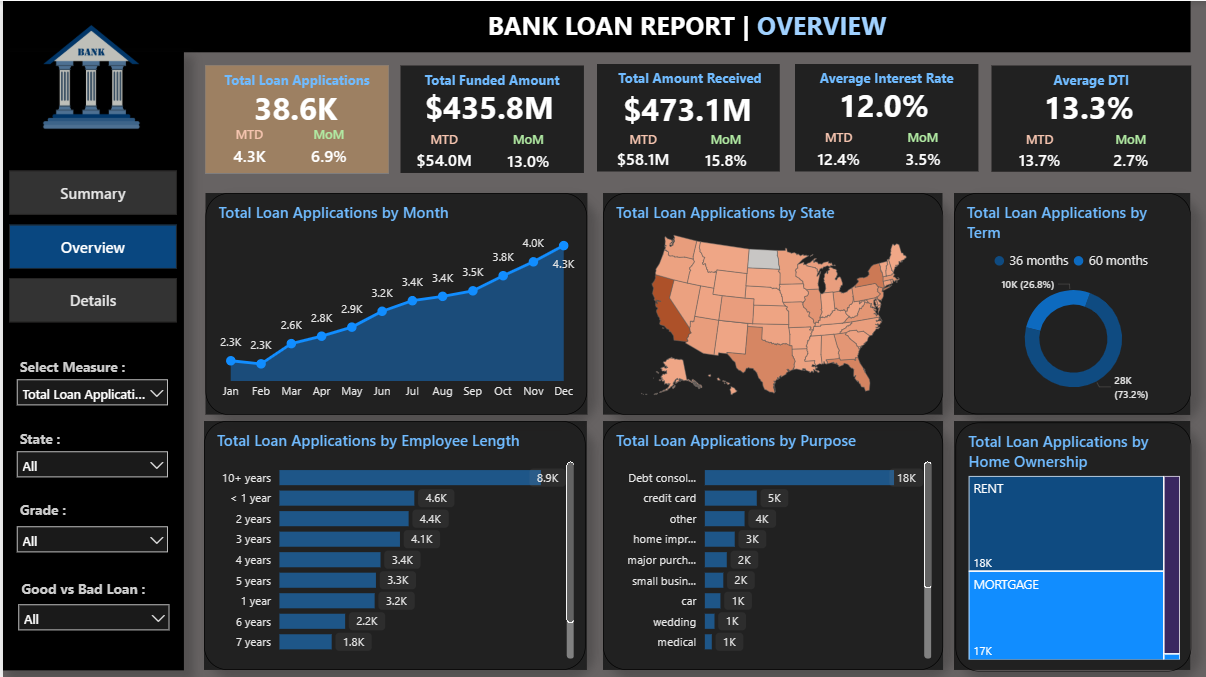

The page's visual inventory and layout, read from the dashboard file:
{"tool":"powerbi","page":{"name":"Overview","canvas":[1280,720],"ordinal":1},"visuals":[{"type":"shape","box":[629.2,66.4,193.8,114.2],"z":0,"group":"g3"},{"type":"shape","box":[839.7,67.5,194.5,114],"z":0,"group":"g4"},{"type":"shape","box":[214.3,68.6,194.3,114.3],"z":0,"group":"g1"},{"type":"shape","box":[421.4,68.6,194.5,114],"z":0,"group":"g2"},{"type":"shape","box":[1047.5,69,211.7,112.9],"z":0,"group":"g5"},{"type":"shape","box":[214.3,204.3,405,235],"z":0},{"type":"shape","box":[0,0,1259.3,54.7],"z":1000},{"type":"card","fields":{"Values":["table_measures.avg_interest_rate"]},"box":[851.5,82.1,165.9,58.4],"z":1000,"group":"g4"},{"type":"card","fields":{"Values":["table_measures.total_loan_appl"]},"box":[247.2,83.2,124.3,61.3],"z":1000,"group":"g1"},{"type":"card","fields":{"Values":["table_measures.total_funded_amt"]},"box":[433.2,83.2,165.9,58.4],"z":1000,"group":"g2"},{"type":"card","fields":{"Values":["table_measures.avg_DTI"]},"box":[1060.3,83.4,180.6,57.8],"z":1000,"group":"g5"},{"type":"card","fields":{"Values":["table_measures.total_received_amt"]},"box":[643.2,85.3,163.1,55.8],"z":1000,"group":"g3"},{"type":"shape","box":[0,54.7,191.9,655.8],"z":2000},{"type":"textbox","box":[632.2,67,191,41.6],"z":2000,"group":"g3"},{"type":"textbox","box":[839.7,67.5,194.5,38.9],"z":2000,"group":"g4"},{"type":"textbox","box":[214.3,68.6,194.3,39],"z":2000,"group":"g1"},{"type":"textbox","box":[421.4,68.6,194.5,38.9],"z":2000,"group":"g2"},{"type":"textbox","box":[1047.5,69,211.7,38.5],"z":2000,"group":"g5"},{"type":"card","title":"MTD","fields":{"Values":["table_measures.MTD_loan_appl"]},"box":[235.7,132.7,51.4,50.2],"z":3000,"group":"g1"},{"type":"card","title":"MTD","fields":{"Values":["table_measures.MTD_interest_rate"]},"box":[851.5,136.3,70.1,48.6],"z":3000,"group":"g4"},{"type":"card","title":"MTD","fields":{"Values":["table_measures.MTD_received_amt"]},"box":[643.2,137.1,68.9,46.5],"z":3000,"group":"g3"},{"type":"card","title":"MTD","fields":{"Values":["table_measures.MTD_avg_DTI"]},"box":[1060.3,137.1,76.3,48.2],"z":3000,"group":"g5"},{"type":"card","title":"MTD","fields":{"Values":["table_measures.MTD_funded_amt"]},"box":[433.2,137.4,70.1,48.6],"z":3000,"group":"g2"},{"type":"textbox","box":[12.4,448.7,119.7,38.5],"z":3000},{"type":"textbox","box":[509.2,1.4,447.3,49.5],"z":4000},{"type":"card","title":"MoM","fields":{"Values":["table_measures.MOM_loan_appl"]},"box":[320,132.7,51.4,50.2],"z":4000,"group":"g1"},{"type":"card","title":"MoM","fields":{"Values":["table_measures.MOM_interest_rate"]},"box":[946.6,136.1,57.8,49.7],"z":4000,"group":"g4"},{"type":"card","title":"MoM","fields":{"Values":["table_measures.MOM_received_amt"]},"box":[736.7,136.9,56.8,47.5],"z":4000,"group":"g3"},{"type":"card","title":"MoM","fields":{"Values":["table_measures.MOM_avg_DTI"]},"box":[1163.9,136.9,62.9,49.2],"z":4000,"group":"g5"},{"type":"card","title":"MoM","fields":{"Values":["table_measures.MOM_funded_amt"]},"box":[528.3,137.2,57.8,49.7],"z":4000,"group":"g2"},{"type":"group","id":"g1","title":"Group 1","box":[214.3,68.6,194.3,114.3],"z":5000},{"type":"group","id":"g2","title":"Group 1","box":[421.4,68.6,194.3,118],"z":6000},{"type":"group","id":"g3","title":"Group 1","box":[629.2,66.4,194,118],"z":7000},{"type":"group","id":"g4","title":"Group 1","box":[839.7,67.5,194.5,118.2],"z":8000},{"type":"group","id":"g5","title":"Group 1","box":[1047.5,69,211.5,116.9],"z":9000},{"type":"shape","box":[635.9,203.7,360,235],"z":10000},{"type":"slicer","fields":{"Values":["financial_loan.address_state"]},"box":[5.5,468,180.3,50.9],"z":11000},{"type":"slicer","fields":{"Values":["financial_loan.grade"]},"box":[5.5,546.4,180.3,50.9],"z":12000},{"type":"textbox","box":[12.4,523,119.7,38.5],"z":13000},{"type":"slicer","fields":{"Values":["financial_loan.Good vs Band Loan"]},"box":[6.9,630.4,180.3,50.9],"z":14000},{"type":"textbox","box":[13.8,607,163.8,38.5],"z":15000},{"type":"areaChart","fields":{"Y":["table_measures.total_loan_appl"],"Category":["Date Table.Month"]},"box":[214.7,203.7,404.6,235.4],"z":16000},{"type":"slicer","fields":{"Values":["Select Measure.Select Measure"]},"box":[5.5,390.9,180.3,55.1],"z":17000},{"type":"shape","box":[213.3,445.9,406,264.3],"z":18000},{"type":"shapeMap","fields":{"Value":["table_measures.total_loan_appl"],"Category":["financial_loan.address_state"]},"box":[635.9,203.7,360.6,235.4],"z":19000},{"type":"shape","box":[1008.9,203.7,250.5,235.4],"z":20000},{"type":"donutChart","fields":{"Y":["table_measures.total_loan_appl"],"Category":["financial_loan.term"]},"box":[1008.1,203.5,251.2,234.9],"z":21000},{"type":"barChart","fields":{"Y":["table_measures.total_loan_appl"],"Category":["financial_loan.emp_length"]},"box":[213.3,445.9,404.6,264.3],"z":22000},{"type":"textbox","box":[12.4,371.6,139,38.5],"z":23000},{"type":"shape","box":[635.9,445.9,360.6,264.3],"z":24000},{"type":"barChart","fields":{"Y":["table_measures.total_loan_appl"],"Category":["financial_loan.purpose"]},"box":[635.9,445.9,360.6,264.3],"z":25000},{"type":"shape","box":[1008.9,445.9,250.5,264.3],"z":26000},{"type":"treemap","fields":{"Values":["table_measures.total_loan_appl"],"Group":["financial_loan.home_ownership"]},"box":[1009.3,446.5,250,264],"z":27000},{"type":"pageNavigator","box":[6.9,180.3,178.9,163.8],"z":28000},{"type":"image","box":[0,1.4,187.2,156.9],"z":29000}]}

Visuals, with their boxes in screenshot pixels (x1, y1, x2, y2), scaled from the page's 1280x720 canvas onto the 1206x677 screenshot:
shape: locate(593, 62, 775, 170)
shape: locate(791, 63, 974, 171)
shape: locate(202, 65, 385, 172)
shape: locate(397, 65, 580, 172)
shape: locate(987, 65, 1186, 171)
shape: locate(202, 192, 583, 413)
shape: locate(0, 0, 1186, 51)
card - table_measures.avg_interest_rate: locate(802, 77, 959, 132)
card - table_measures.total_loan_appl: locate(233, 78, 350, 136)
card - table_measures.total_funded_amt: locate(408, 78, 564, 133)
card - table_measures.avg_DTI: locate(999, 78, 1169, 133)
card - table_measures.total_received_amt: locate(606, 80, 760, 133)
shape: locate(0, 51, 181, 668)
textbox: locate(596, 63, 776, 102)
textbox: locate(791, 63, 974, 100)
textbox: locate(202, 65, 385, 101)
textbox: locate(397, 65, 580, 101)
textbox: locate(987, 65, 1186, 101)
"MTD" card: locate(222, 125, 271, 172)
"MTD" card: locate(802, 128, 868, 174)
"MTD" card: locate(606, 129, 671, 173)
"MTD" card: locate(999, 129, 1071, 174)
"MTD" card: locate(408, 129, 474, 175)
textbox: locate(12, 422, 124, 458)
textbox: locate(480, 1, 901, 48)
"MoM" card: locate(302, 125, 350, 172)
"MoM" card: locate(892, 128, 946, 175)
"MoM" card: locate(694, 129, 748, 173)
"MoM" card: locate(1097, 129, 1156, 175)
"MoM" card: locate(498, 129, 552, 176)
"Group 1" group: locate(202, 65, 385, 172)
"Group 1" group: locate(397, 65, 580, 175)
"Group 1" group: locate(593, 62, 776, 173)
"Group 1" group: locate(791, 63, 974, 175)
"Group 1" group: locate(987, 65, 1186, 175)
shape: locate(599, 192, 938, 412)
slicer - financial_loan.address_state: locate(5, 440, 175, 488)
slicer - financial_loan.grade: locate(5, 514, 175, 562)
textbox: locate(12, 492, 124, 528)
slicer - financial_loan.Good vs Band Loan: locate(7, 593, 176, 641)
textbox: locate(13, 571, 167, 607)
areaChart - table_measures.total_loan_appl x Date Table.Month: locate(202, 192, 583, 413)
slicer - Select Measure.Select Measure: locate(5, 368, 175, 419)
shape: locate(201, 419, 583, 668)
shapeMap - table_measures.total_loan_appl x financial_loan.address_state: locate(599, 192, 939, 413)
shape: locate(951, 192, 1187, 413)
donutChart - table_measures.total_loan_appl x financial_loan.term: locate(950, 191, 1186, 412)
barChart - table_measures.total_loan_appl x financial_loan.emp_length: locate(201, 419, 582, 668)
textbox: locate(12, 349, 143, 386)
shape: locate(599, 419, 939, 668)
barChart - table_measures.total_loan_appl x financial_loan.purpose: locate(599, 419, 939, 668)
shape: locate(951, 419, 1187, 668)
treemap - table_measures.total_loan_appl x financial_loan.home_ownership: locate(951, 420, 1186, 668)
pageNavigator: locate(7, 170, 175, 324)
image: locate(0, 1, 176, 149)
